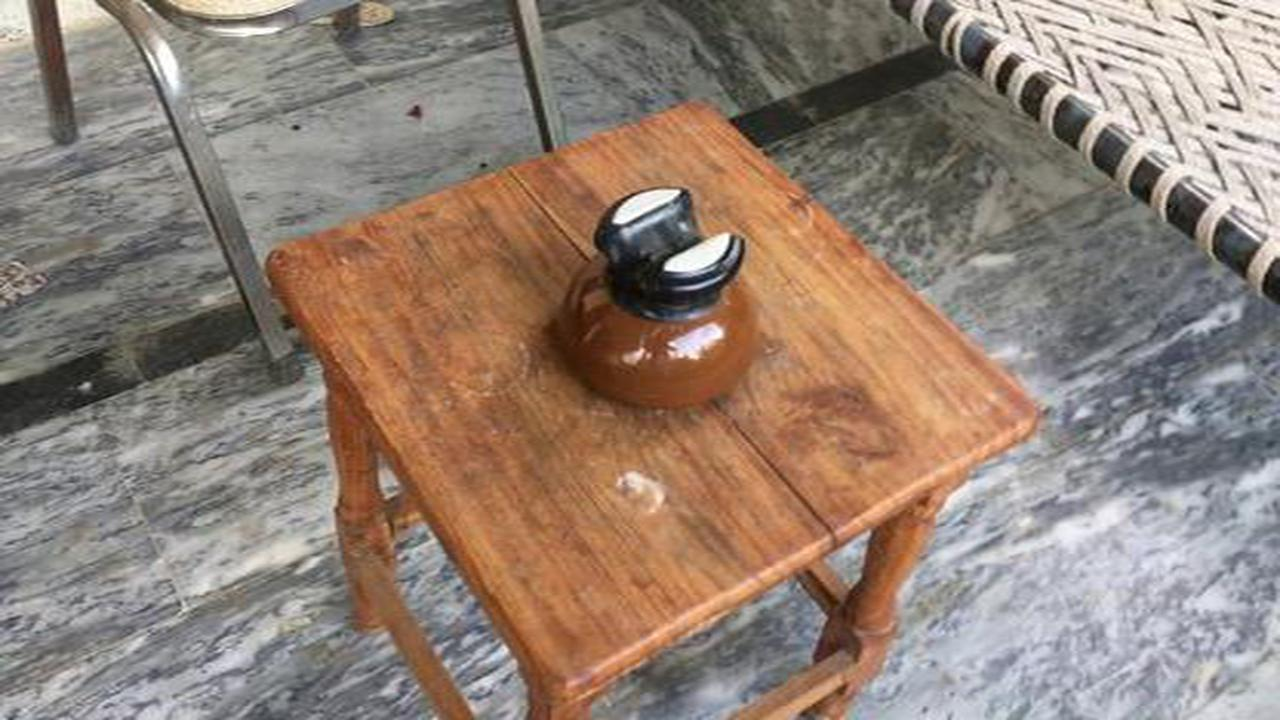insulator_pin: (524, 165, 794, 426)
